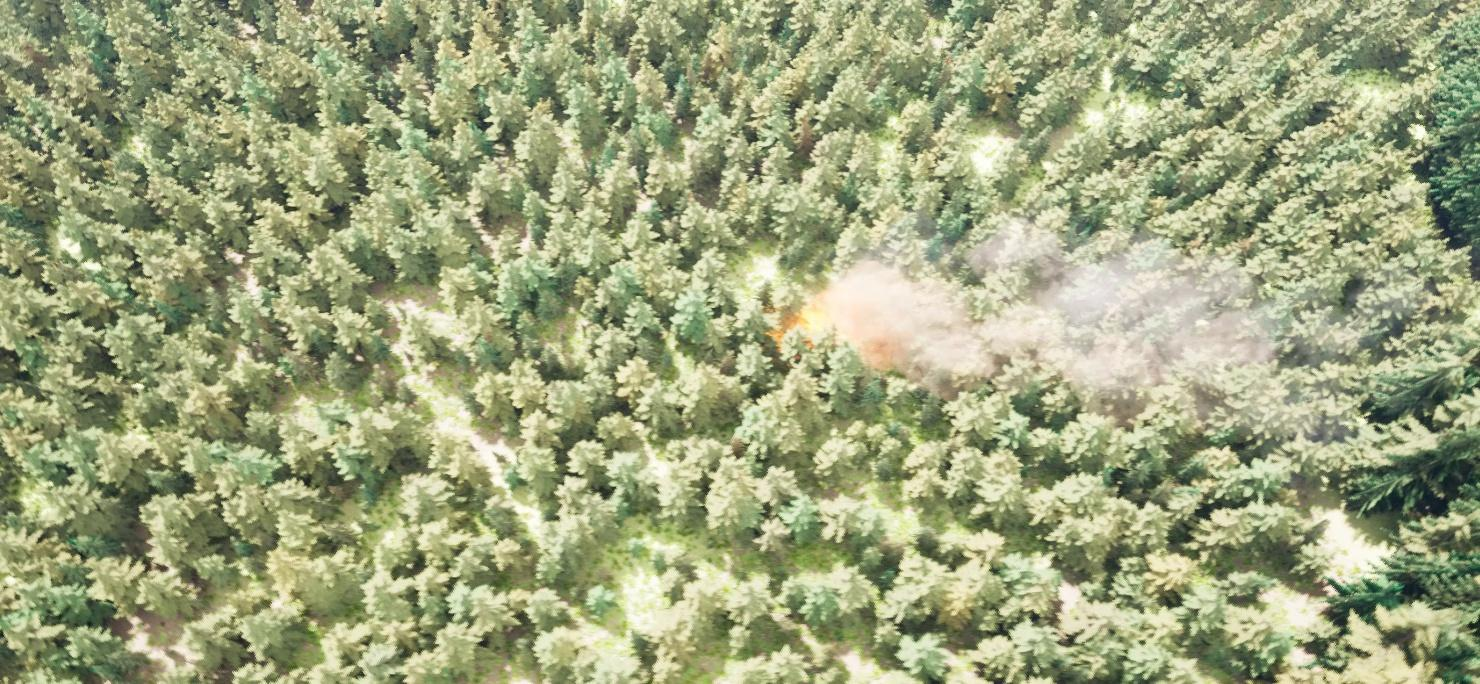smoke: (800, 217, 1308, 455)
